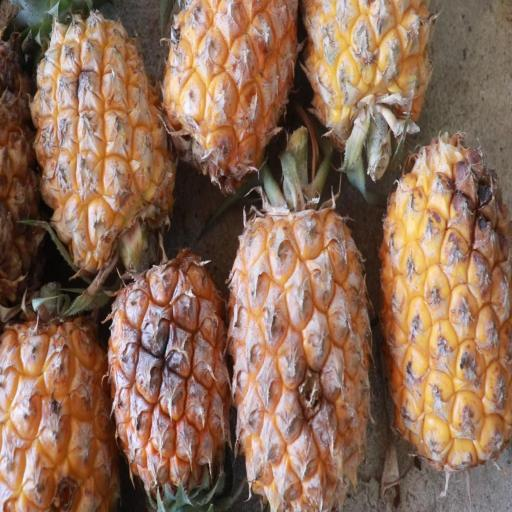Pineapple - v8 v1: (223, 149, 376, 512), (378, 128, 512, 484), (31, 0, 183, 290), (106, 242, 230, 509), (158, 0, 300, 189), (0, 295, 118, 512), (297, 0, 439, 165)
